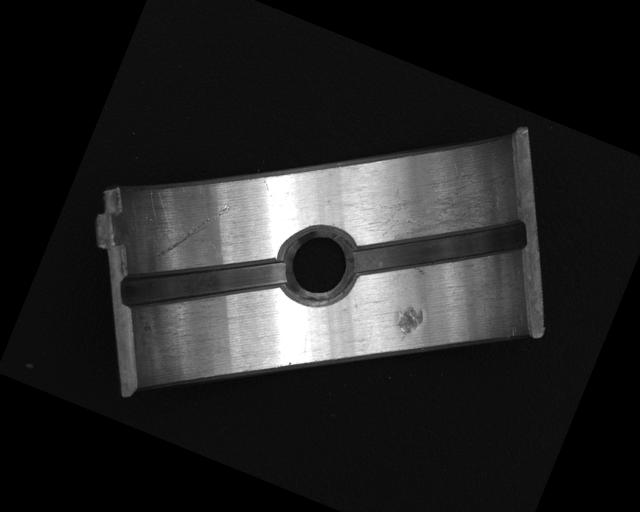bruise: (389, 301, 427, 346)
gap: (346, 167, 533, 328), (115, 209, 291, 358)
hole: (271, 216, 367, 317)
nick: (156, 186, 232, 275)
scratch: (364, 136, 511, 278)
